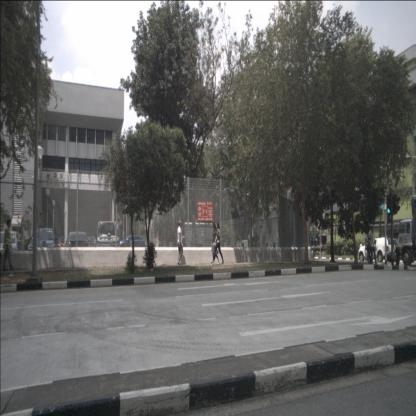human-pedestrian-adult: (211, 222, 224, 264), (368, 225, 378, 265), (211, 222, 220, 266), (177, 219, 185, 265), (393, 232, 401, 270), (365, 232, 372, 264), (360, 242, 362, 258)
vehicle-car: (358, 236, 398, 264), (28, 228, 56, 258), (96, 221, 120, 256), (0, 231, 22, 260), (65, 231, 89, 255), (119, 235, 146, 252)
vehicle-truck: (395, 219, 416, 267)
